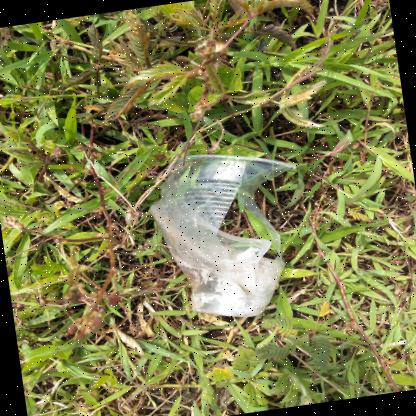Disposable plastic cup: (148, 154, 296, 317)
